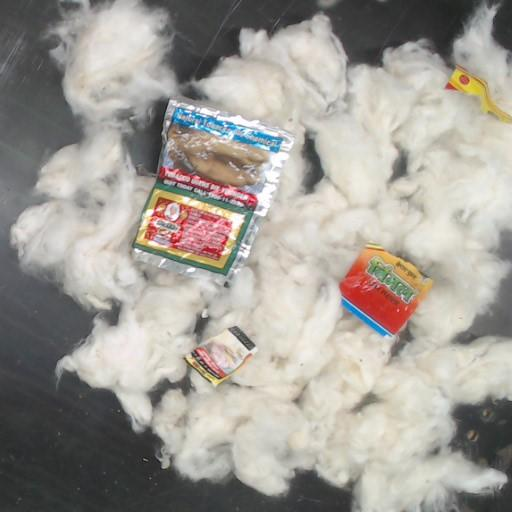conveyor belt: (148, 0, 317, 82), (326, 0, 478, 64), (457, 401, 511, 462)
cotton: (10, 0, 511, 511)
packet: (132, 99, 293, 284), (340, 244, 431, 336), (185, 326, 256, 385), (445, 67, 511, 122)
